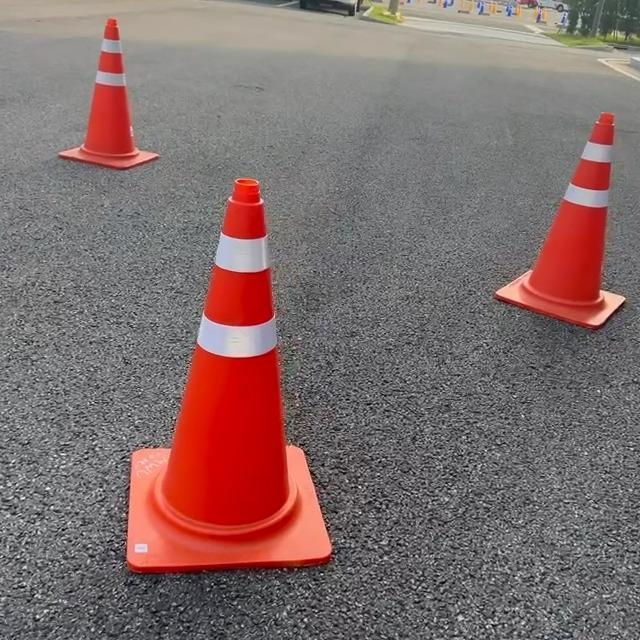fallen_object: (143, 189, 331, 588), (456, 96, 640, 355), (53, 7, 197, 174)
